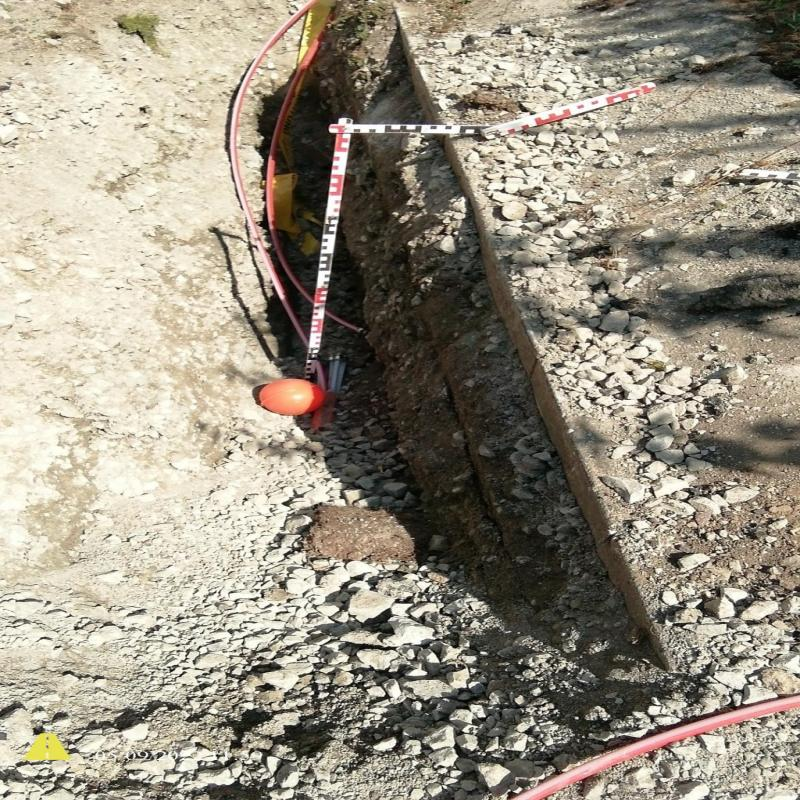Kugelmarker: (257, 379, 323, 415)
Orang-Speednetrohrchen: (311, 355, 347, 421)
